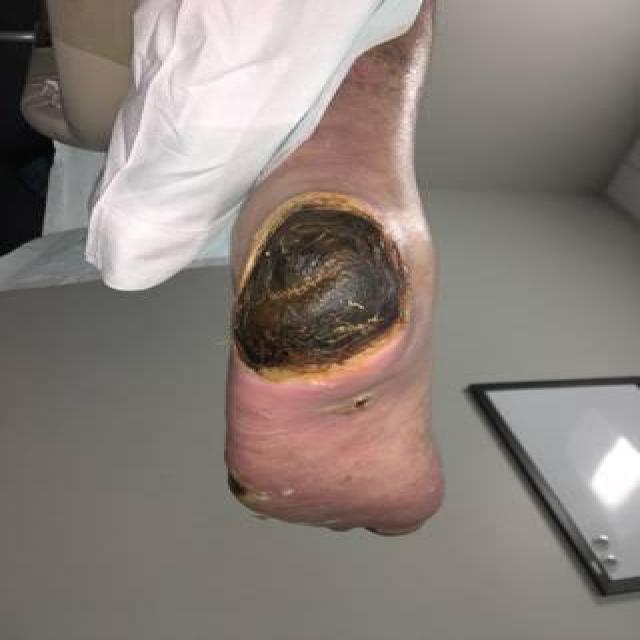Unstageable: (232, 192, 409, 379)
